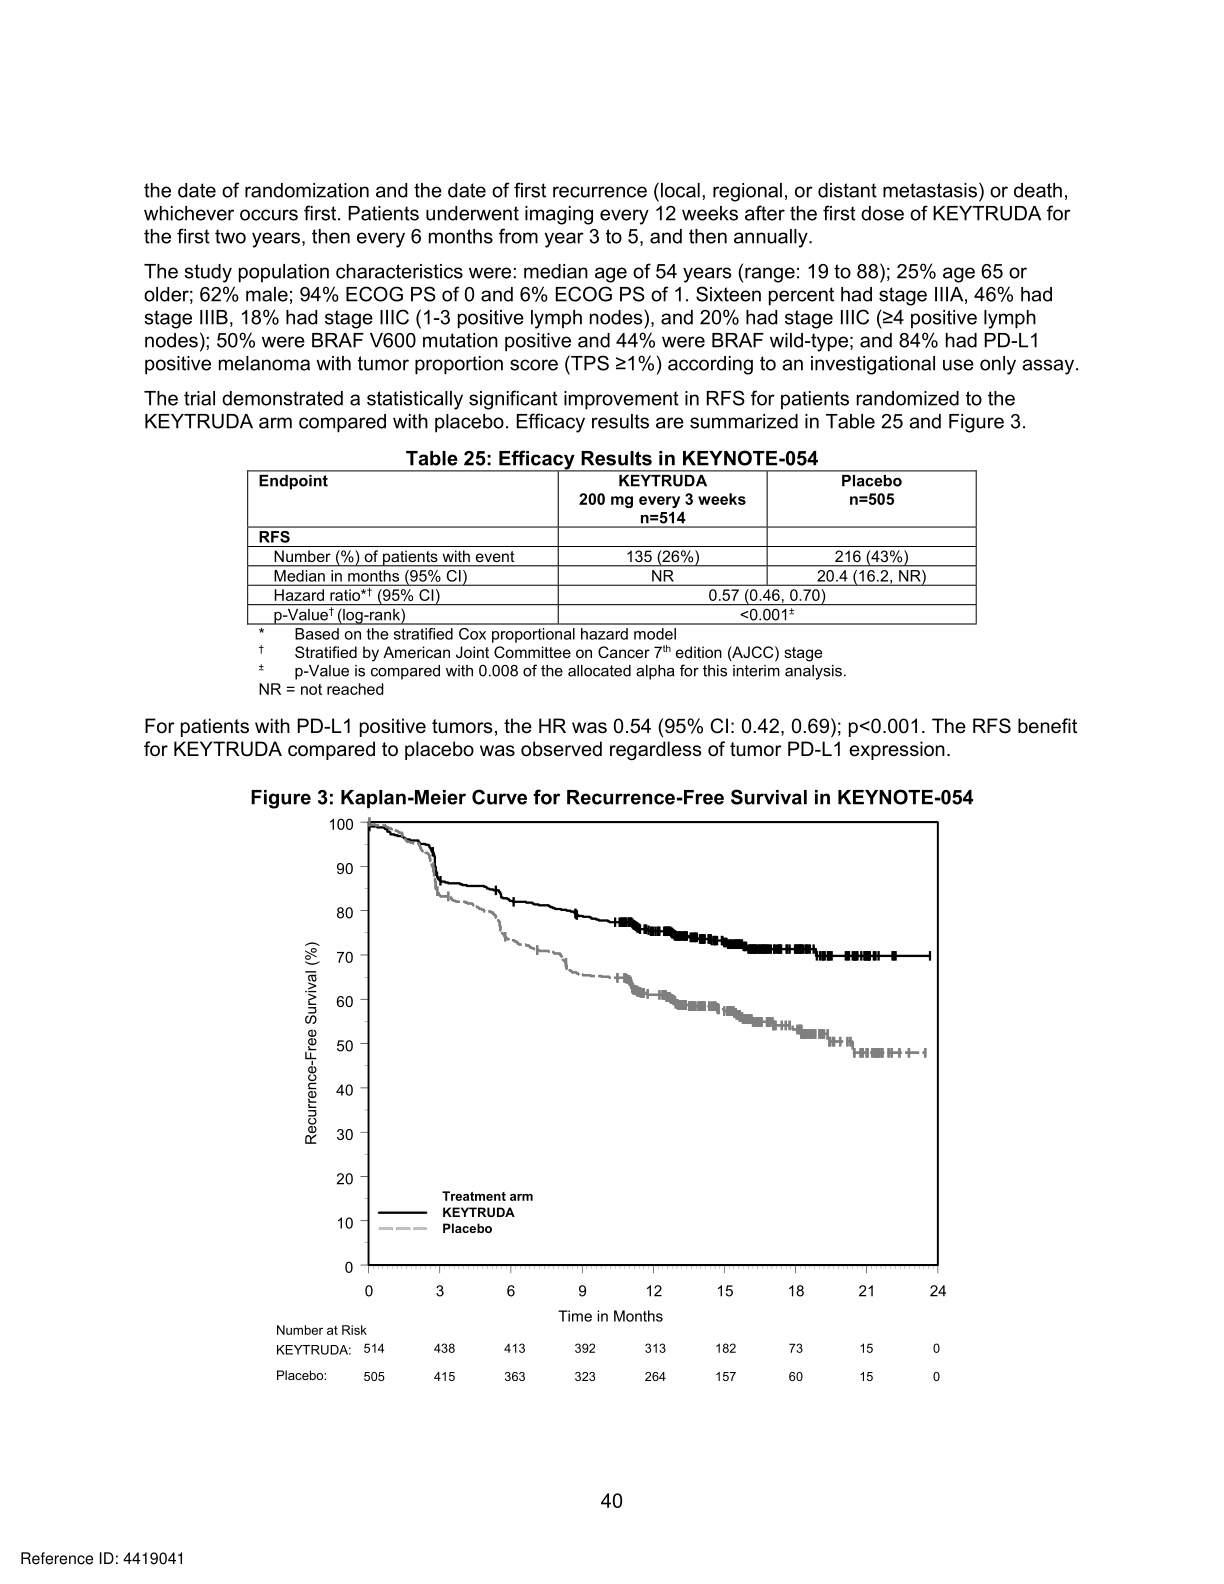merged_cells: (246, 471, 977, 625)
nolines: (275, 1341, 941, 1383)
